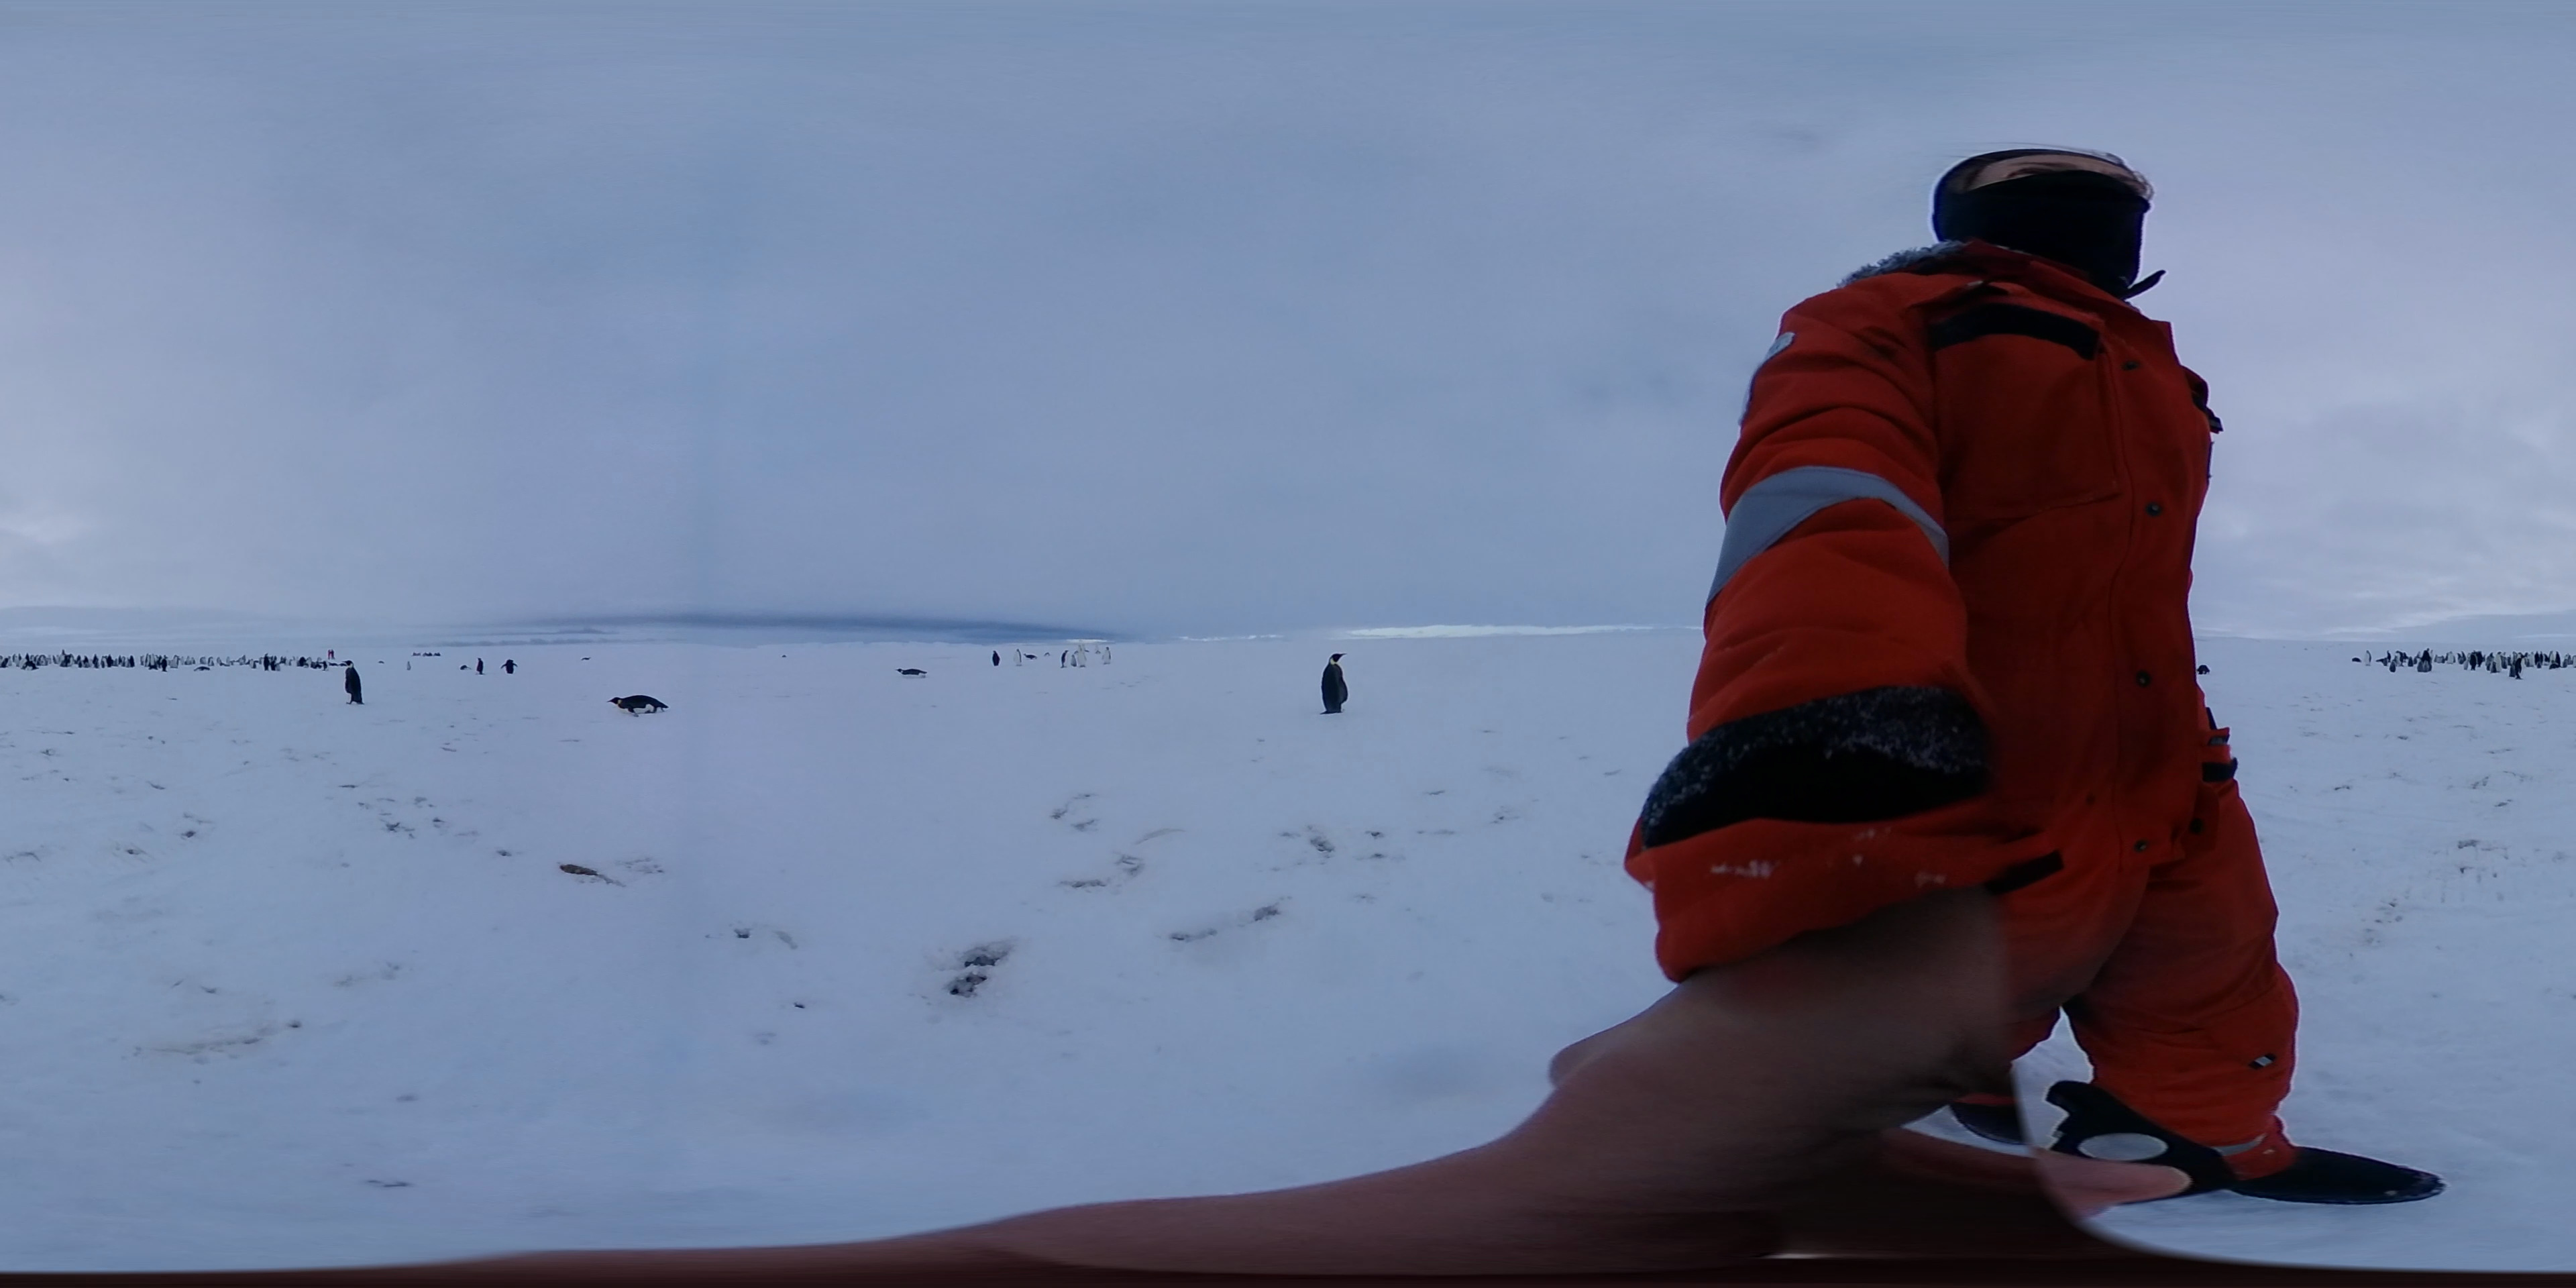adult_standing_penguin: (1319, 651, 1350, 718), (338, 659, 366, 706), (501, 659, 519, 677), (989, 651, 1002, 669), (475, 657, 486, 677)
adult_toboggan_penguin: (603, 692, 670, 718), (895, 665, 923, 678), (2196, 665, 2215, 678)
researcher: (1636, 143, 2453, 1214)
